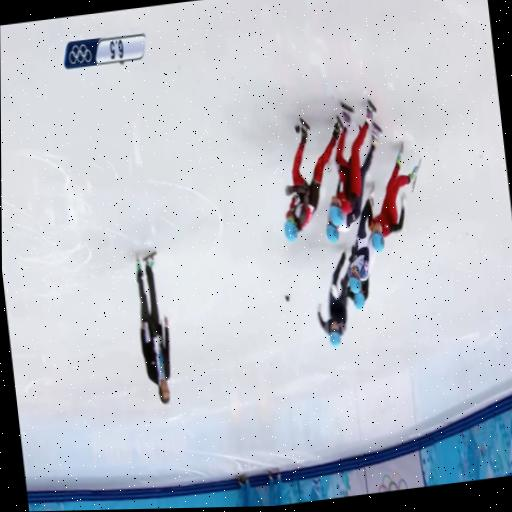Skater: (284, 118, 340, 241), (325, 123, 381, 241), (328, 100, 375, 225), (368, 144, 420, 251), (316, 250, 346, 347), (346, 186, 373, 292), (346, 277, 368, 309)
